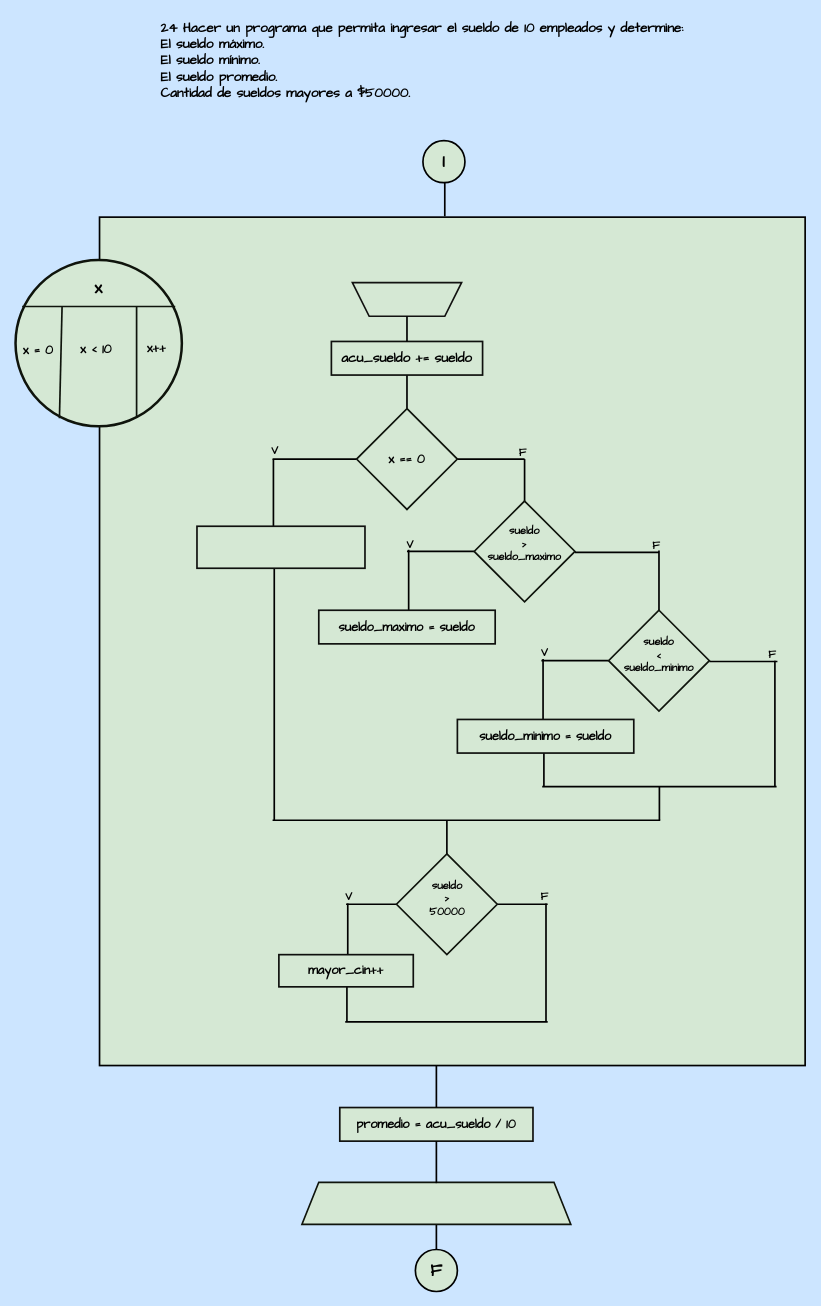
This 821x1306 diagram has some shape labels left out. The box of each missing label's shape, as (x1, y1, x2, y2) in pixels:
sueldo: (351, 281, 462, 317)
sueldo_maximo = sueldo sueldo_minimo = sueldo: (196, 525, 365, 569)
sueldo_maximo, sueldo_minimo, promedio, mayor_cin: (301, 1181, 571, 1225)
